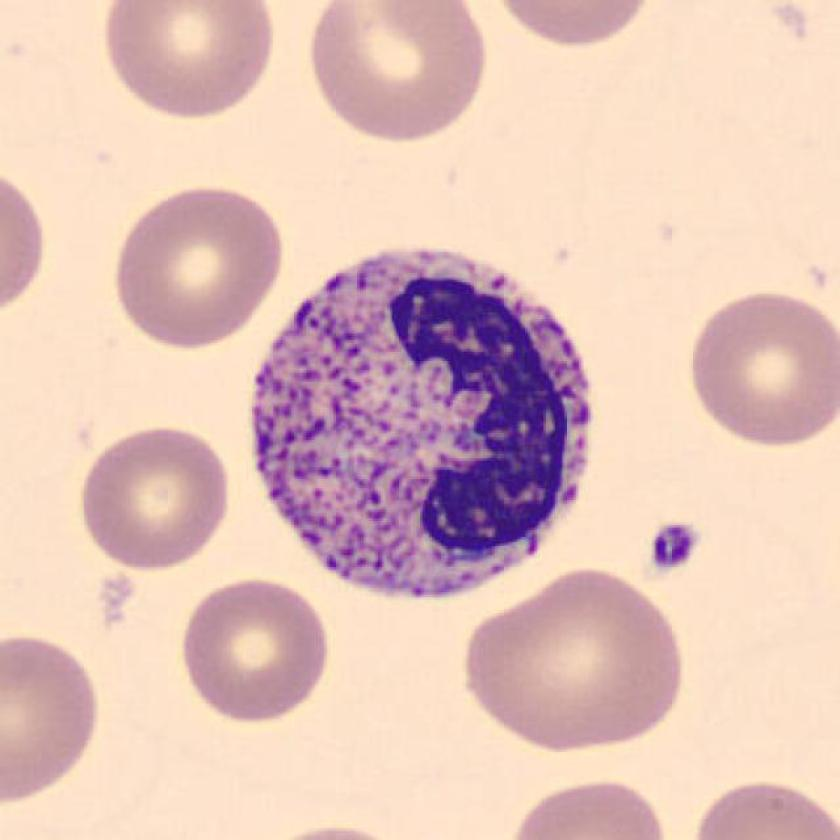neutrophil: (251, 243, 591, 604)
